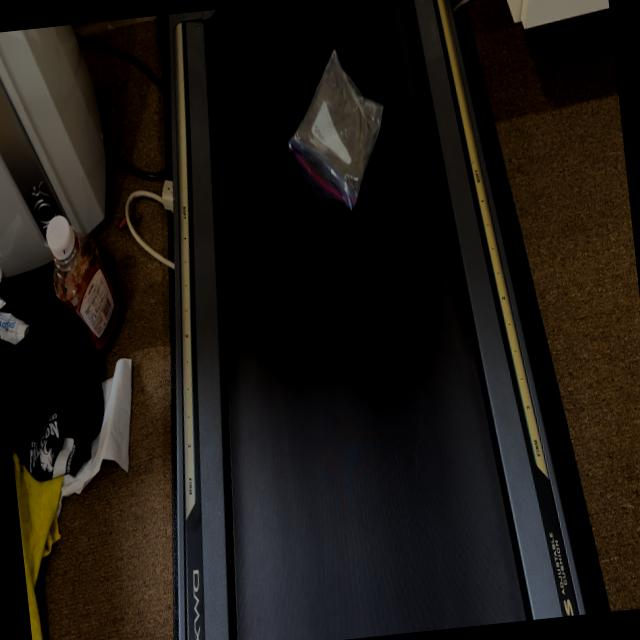Trash: (276, 43, 394, 214)
